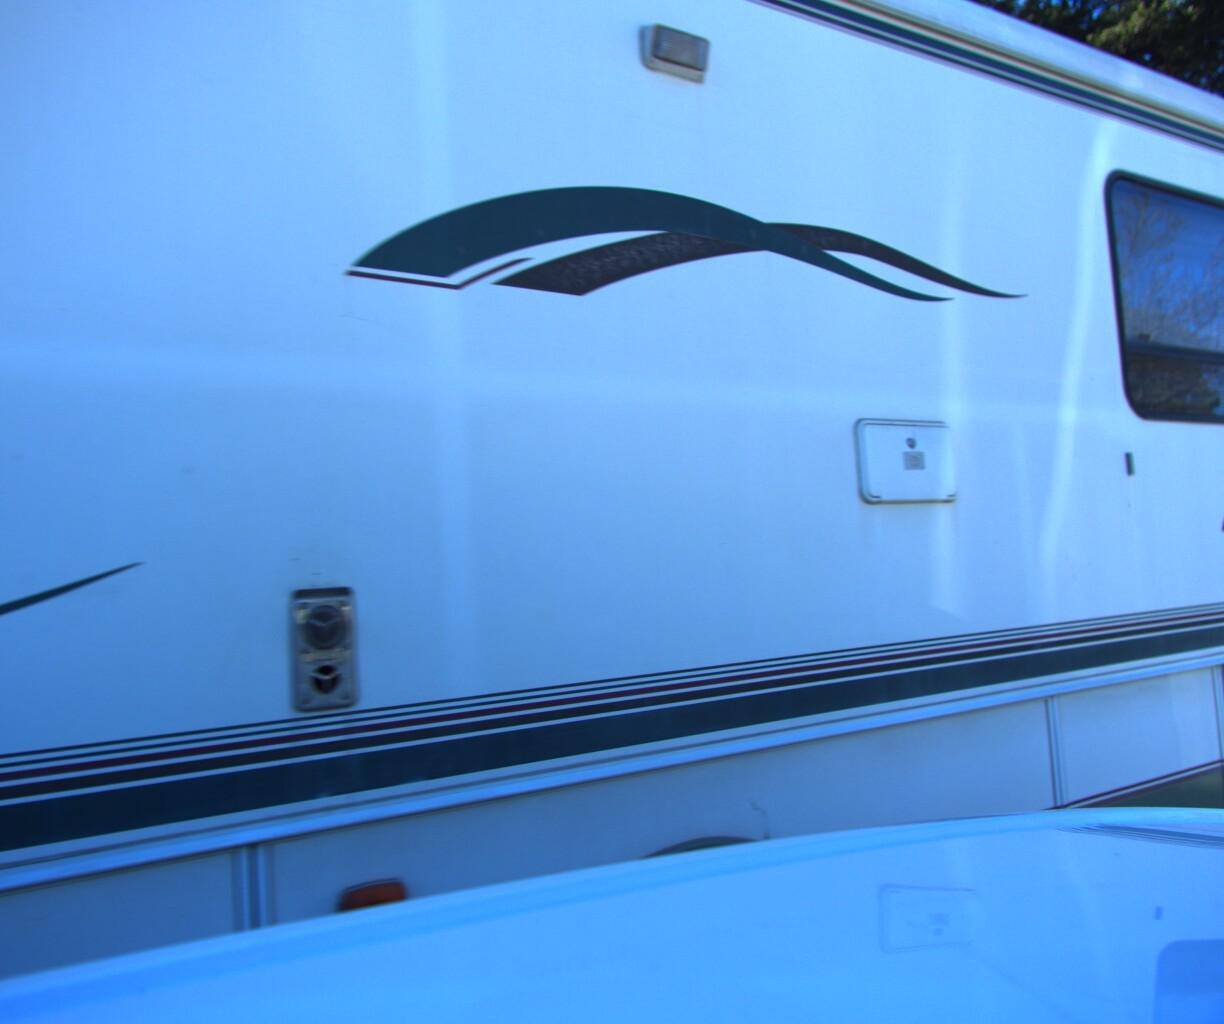car: (1030, 502, 1224, 825)
